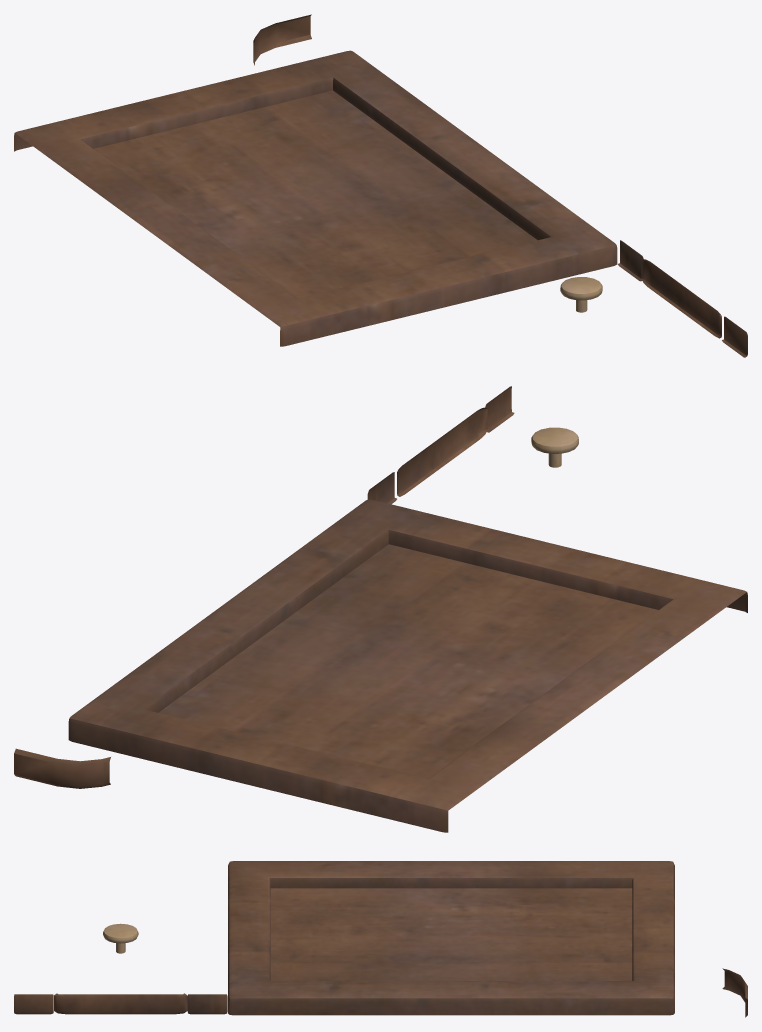
File: Drawer_Right.obj
3 views of the same model, one above another, from view 1: azimuth 30°, elevation 25°; view 2: azimuth 150°, elevation 25°; view 3: azimuth 270°, elevation 25° (orthographic). The views are drawn at different scales.
Visible parts, largest first — view 1: Drawer_Right; view 2: Drawer_Right; view 3: Drawer_Right.
Part boxes in pixels (x1,y1,x2,y2): Drawer_Right: (14,14,747,357); Drawer_Right: (14,386,747,832); Drawer_Right: (14,861,747,1017).
Size of the model in its own units: 1.87 by 0.2828 by 4.18.
Materials: 1 (1 with a texture image).
